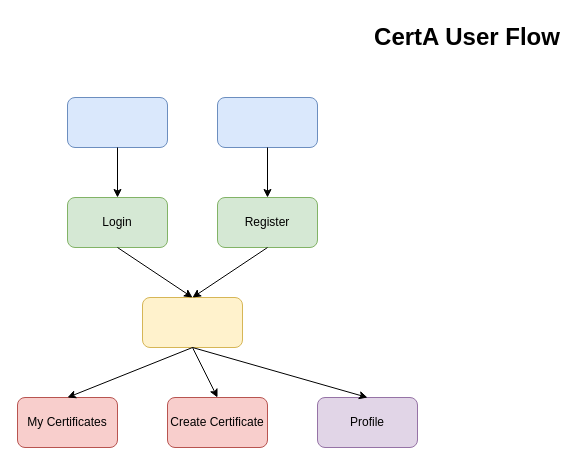
The diagram is 585 pixels wide and 465 high, and some of its shapes have lost their labels. The centre of each missing label's shape, as x and y in pixels:
"CA Info" goes at (x=267, y=122).
"Dashboard" goes at (x=192, y=322).
"Home Page" goes at (x=117, y=122).
